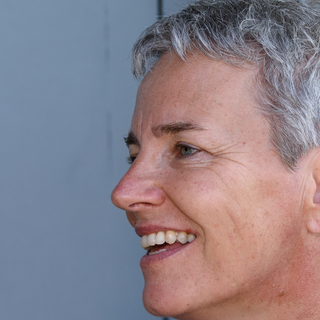eye: (167, 139, 213, 164)
